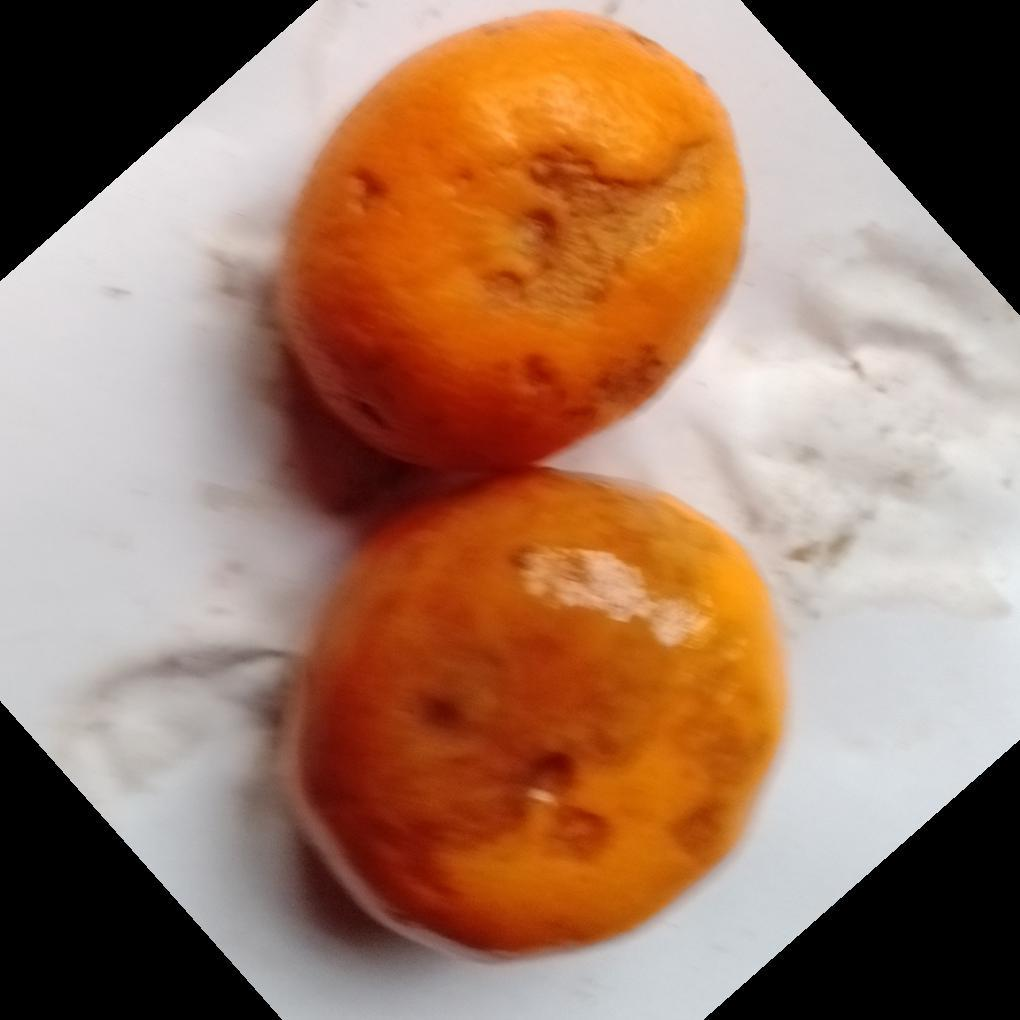FreshOrange: (272, 8, 792, 968)
